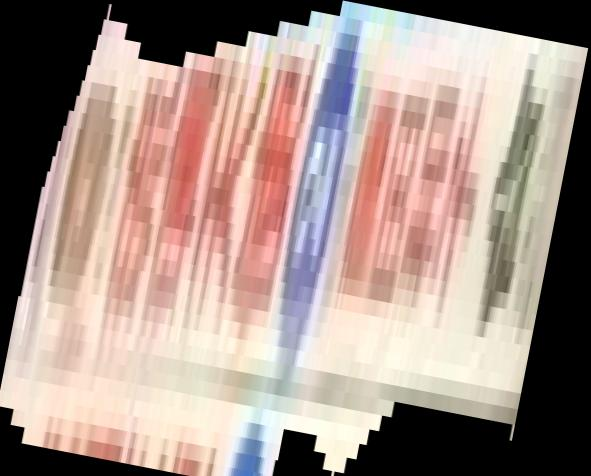flat: (1, 1, 591, 476)
